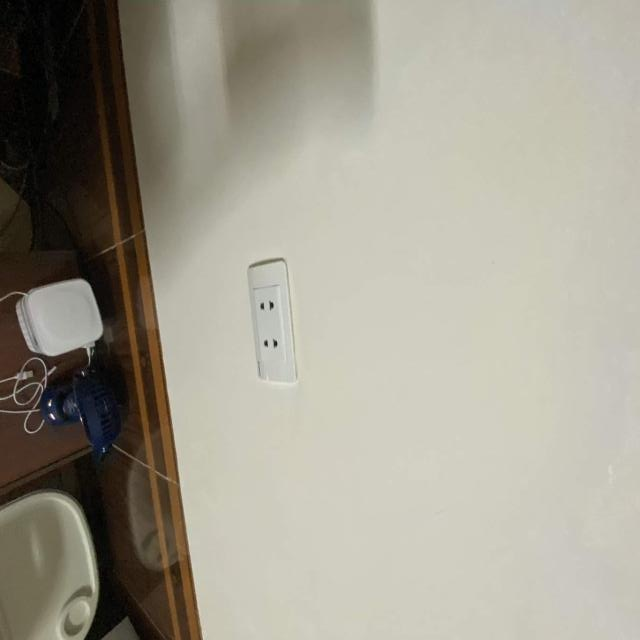outlet: (248, 258, 298, 384)
